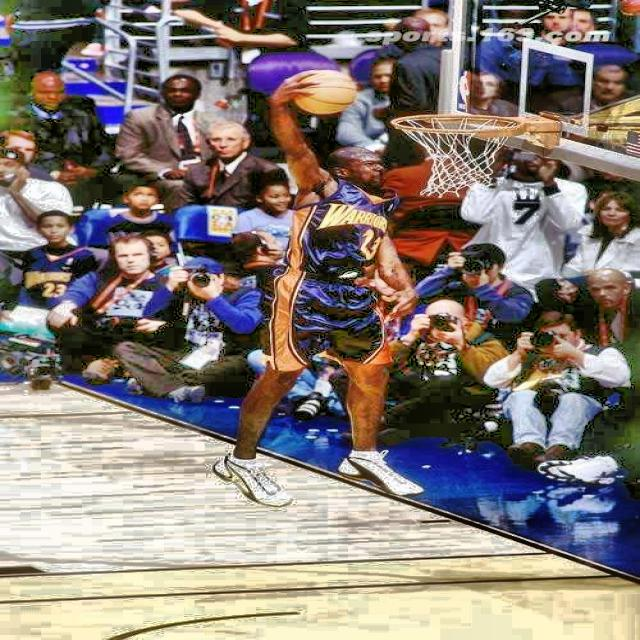rim: (394, 115, 520, 194)
